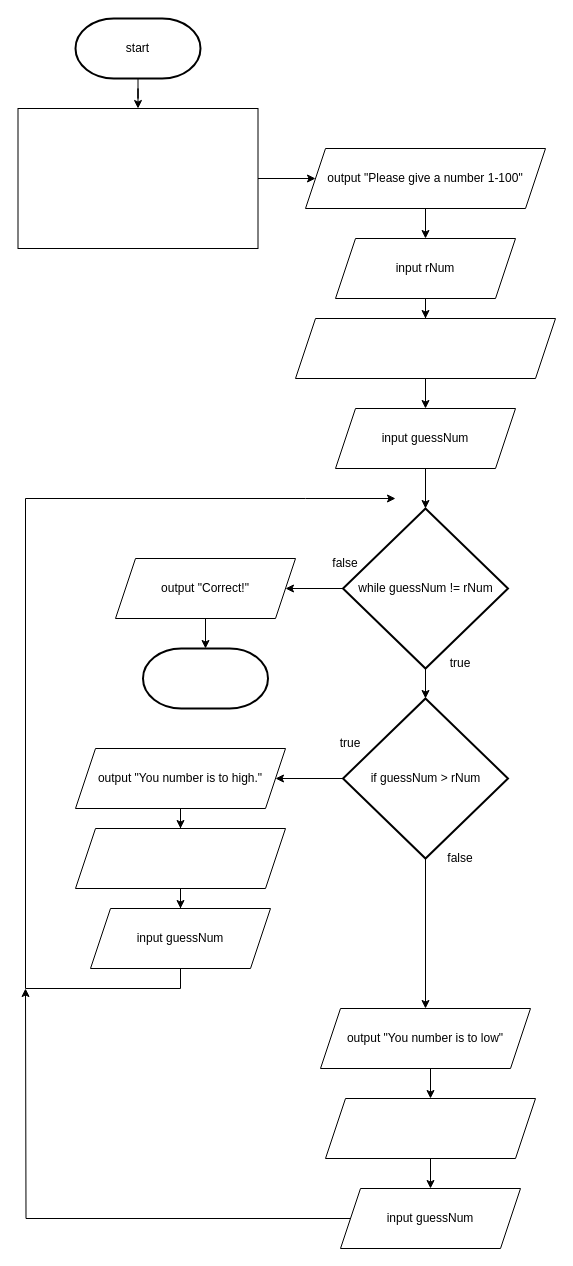
The diagram is 573 pixels wide and 1266 high, and some of its shapes have lost their labels. Each missing label, with the box of its shape:
Declarations num rNum num guessNum: (17, 108, 258, 248)
end: (142, 647, 268, 709)
output "What is you next guess?": (74, 828, 286, 888)
output "What is your next guess?": (324, 1098, 536, 1158)
output "What will you first guess be?": (294, 318, 556, 378)
